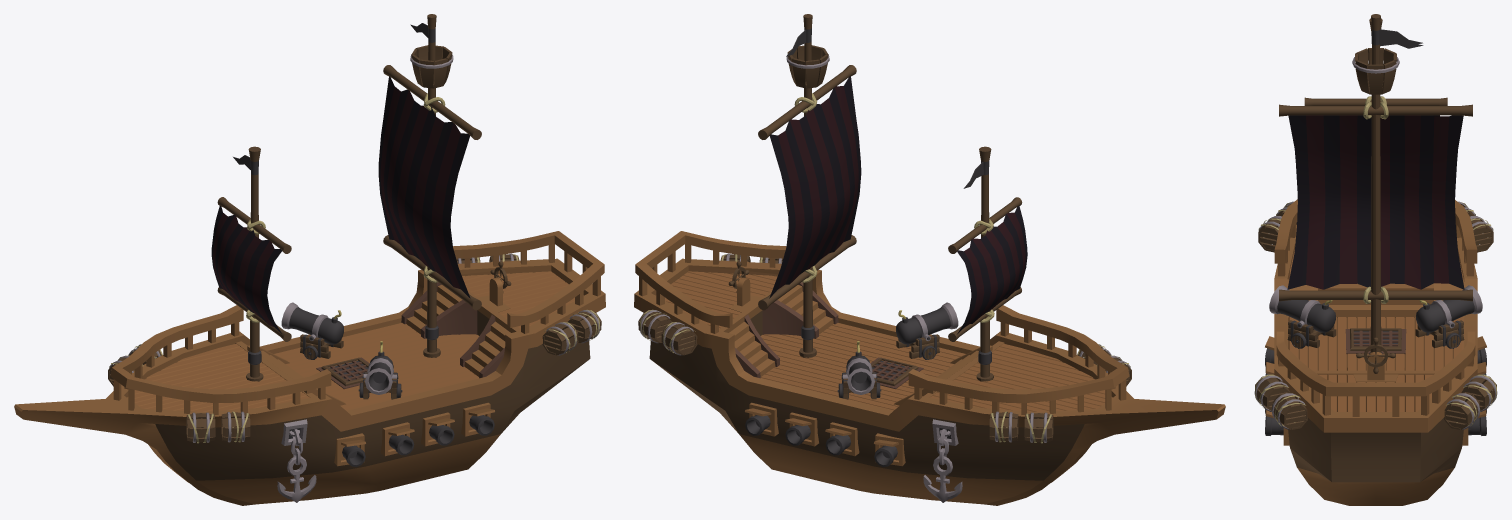
Rendered from blacktide-ship.glb.
3 renders of one model, left to right at view 1: azimuth 30°, elevation 25°; view 2: azimuth 150°, elevation 25°; view 3: azimuth 270°, elevation 25°, orthographic. The views are drawn at different scales.
Visible parts, largest first — view 1: Ship_Large; view 2: Ship_Large; view 3: Ship_Large.
Boxes of the visible parts, <box> form: Ship_Large: <box>14,14,605,505</box>; Ship_Large: <box>634,14,1225,505</box>; Ship_Large: <box>1254,14,1497,505</box>.
Size of the model in its own units: 15.43 by 11.48 by 5.3.
1 material, 1 textured.
